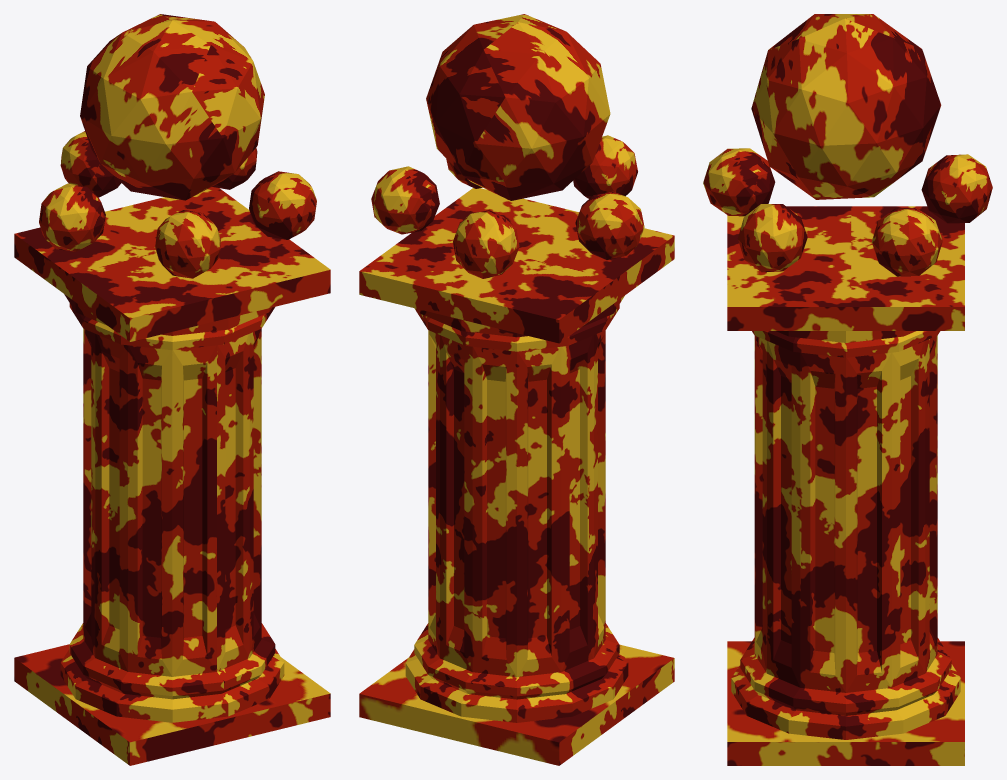
File: fire_column.fbx
3 views of the same model, side by side, from view 1: azimuth 30°, elevation 25°; view 2: azimuth 150°, elevation 25°; view 3: azimuth 270°, elevation 25° (orthographic). The views are drawn at different scales.
Visible parts, largest first — view 1: fire_column; view 2: fire_column; view 3: fire_column.
Part boxes in pixels (x1=…): fire_column: x1=14, y1=14, x2=330, y2=765; fire_column: x1=359, y1=14, x2=674, y2=765; fire_column: x1=703, y1=14, x2=992, y2=765.
Bounding box in the file's own units: 3.94 × 10.82 × 4.08.
Materials: 1 (1 with a texture image).
